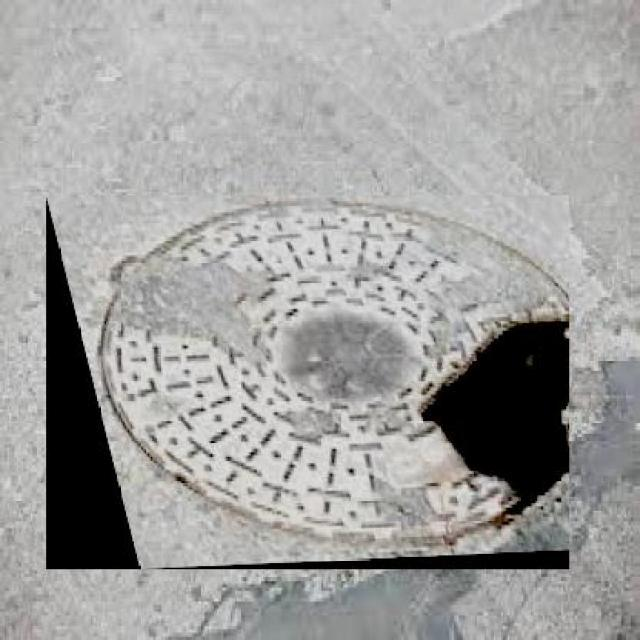Open Manhole: (46, 196, 569, 570)
